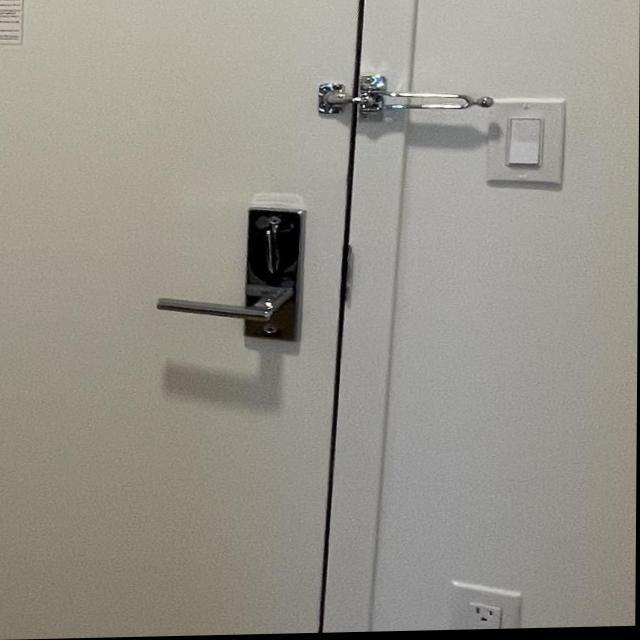door_handle: (138, 276, 324, 342)
